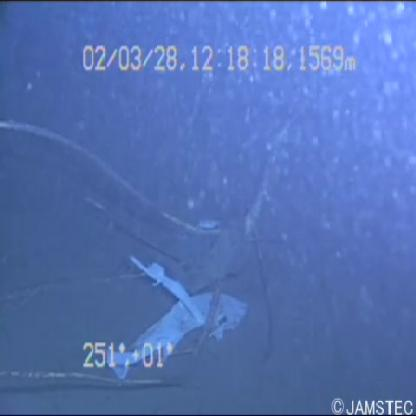Rác: (93, 223, 248, 381)
